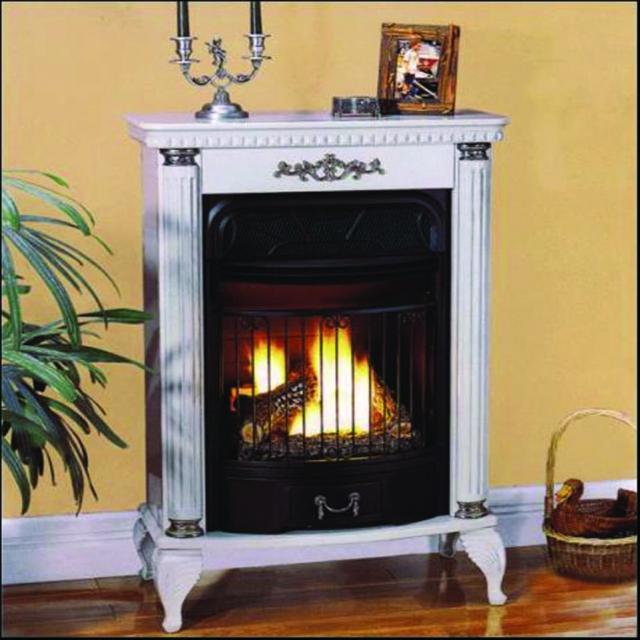Fire: (223, 319, 396, 442)
